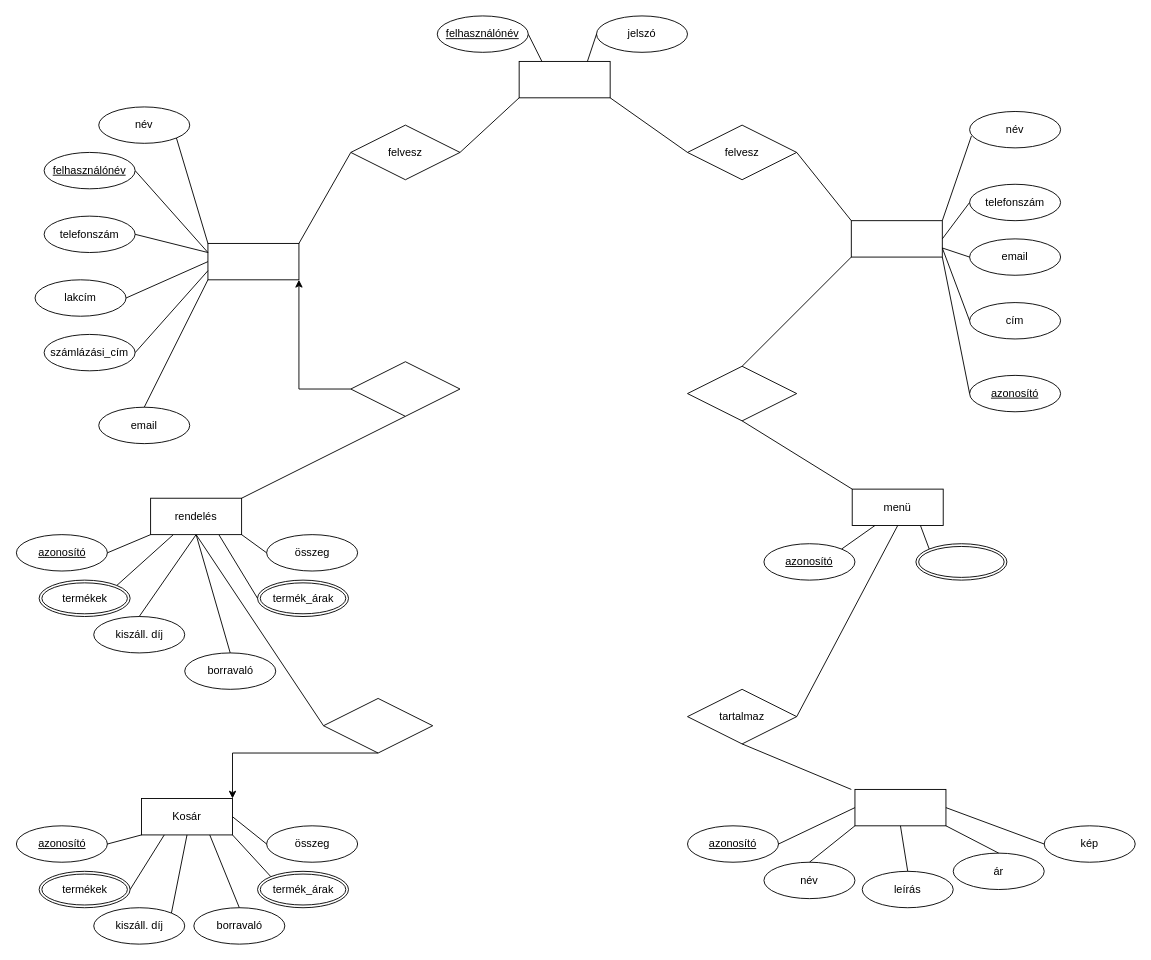
The diagram is 1151 pixels wide and 960 high, and some of its shapes have lost their labels. The shapes that lost their labels are listed below. From the top down, each one's centre as x and y in pixels, then its label:
At [564,79]: "Admin".
At [896,238]: "Partner".
At [253,261]: "Vásárló".
At [405,388]: "rendel".
At [742,393]: "meghirdet".
At [961,561]: "kategóriák".
At [378,725]: "beletesz".
At [900,807]: "Étel / Ital".
